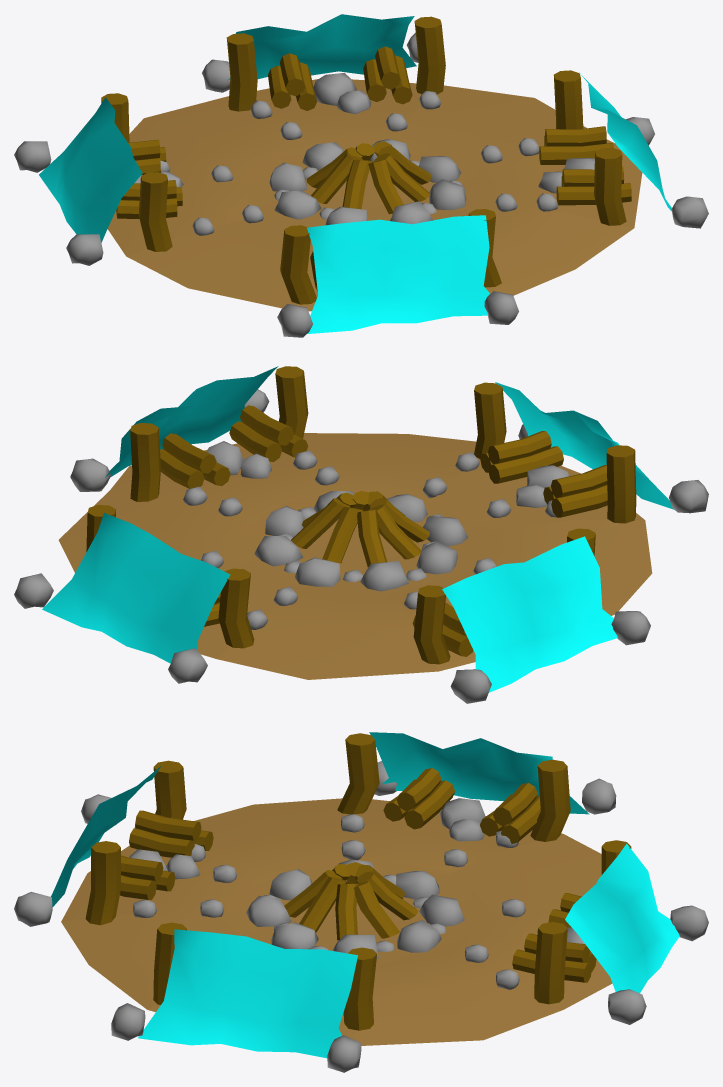
The model's file is VillageCenter.fbx.
3 views of the same model, one above another, from view 1: azimuth 30°, elevation 25°; view 2: azimuth 150°, elevation 25°; view 3: azimuth 270°, elevation 25° (orthographic). The views are drawn at different scales.
Visible parts, largest first — view 1: VillageCenter; view 2: VillageCenter; view 3: VillageCenter.
Part boxes in pixels (bbox=[...]): VillageCenter: bbox=[14, 14, 708, 337]; VillageCenter: bbox=[14, 366, 708, 703]; VillageCenter: bbox=[14, 732, 708, 1072].
Bounding box in the file's own units: 16.32 × 2.43 × 16.38.
Materials: 1 (1 with a texture image).
